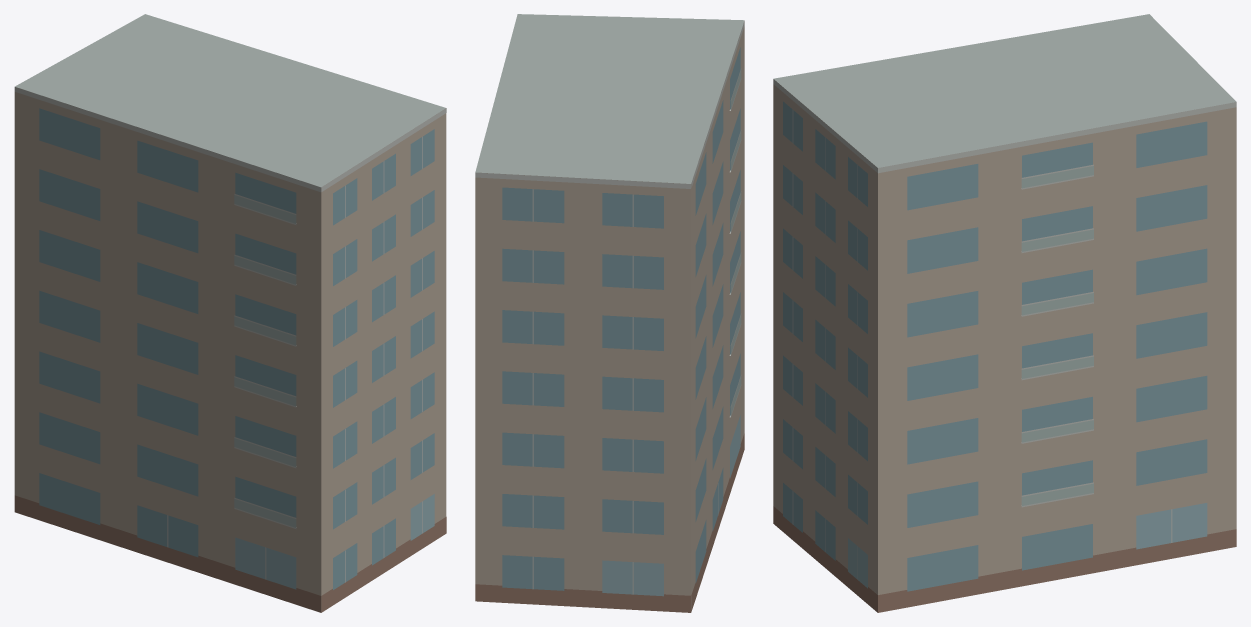
Rendered from survey-upis-32718808.glb.
3 renders of one model, left to right at view 1: azimuth 30°, elevation 25°; view 2: azimuth 150°, elevation 25°; view 3: azimuth 270°, elevation 25°, orthographic. The views are drawn at different scales.
Visible parts, largest first — view 1: survey-upis-32718808.tmp; view 2: survey-upis-32718808.tmp; view 3: survey-upis-32718808.tmp.
Boxes of the visible parts, x1,y1,x2,y2 form: survey-upis-32718808.tmp: (14,14,446,612); survey-upis-32718808.tmp: (475,14,744,612); survey-upis-32718808.tmp: (773,14,1236,612).
Size of the model in its own units: 15.38 by 20.7 by 19.55.
